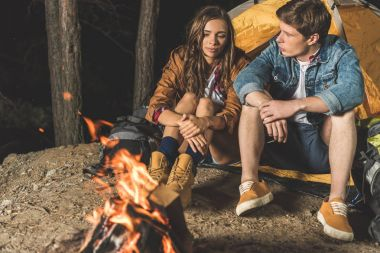fire: (108, 153, 156, 222)
